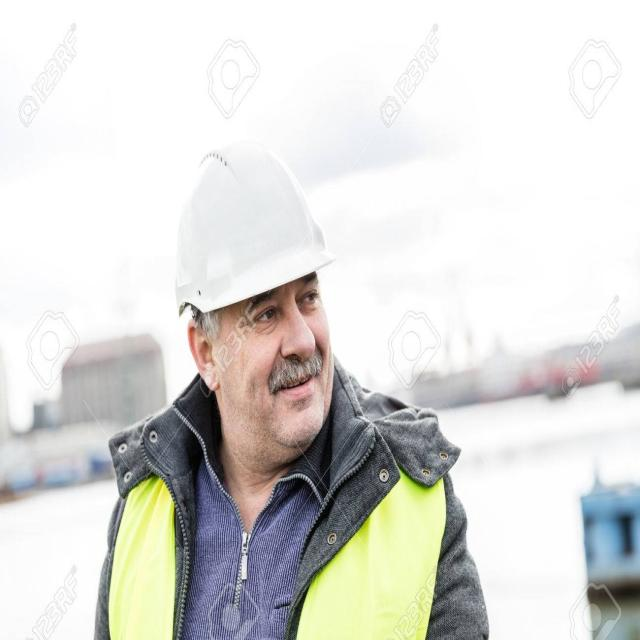helmet: (172, 130, 350, 320)
no-goggles: (191, 280, 337, 348)
vest: (105, 374, 439, 640)
